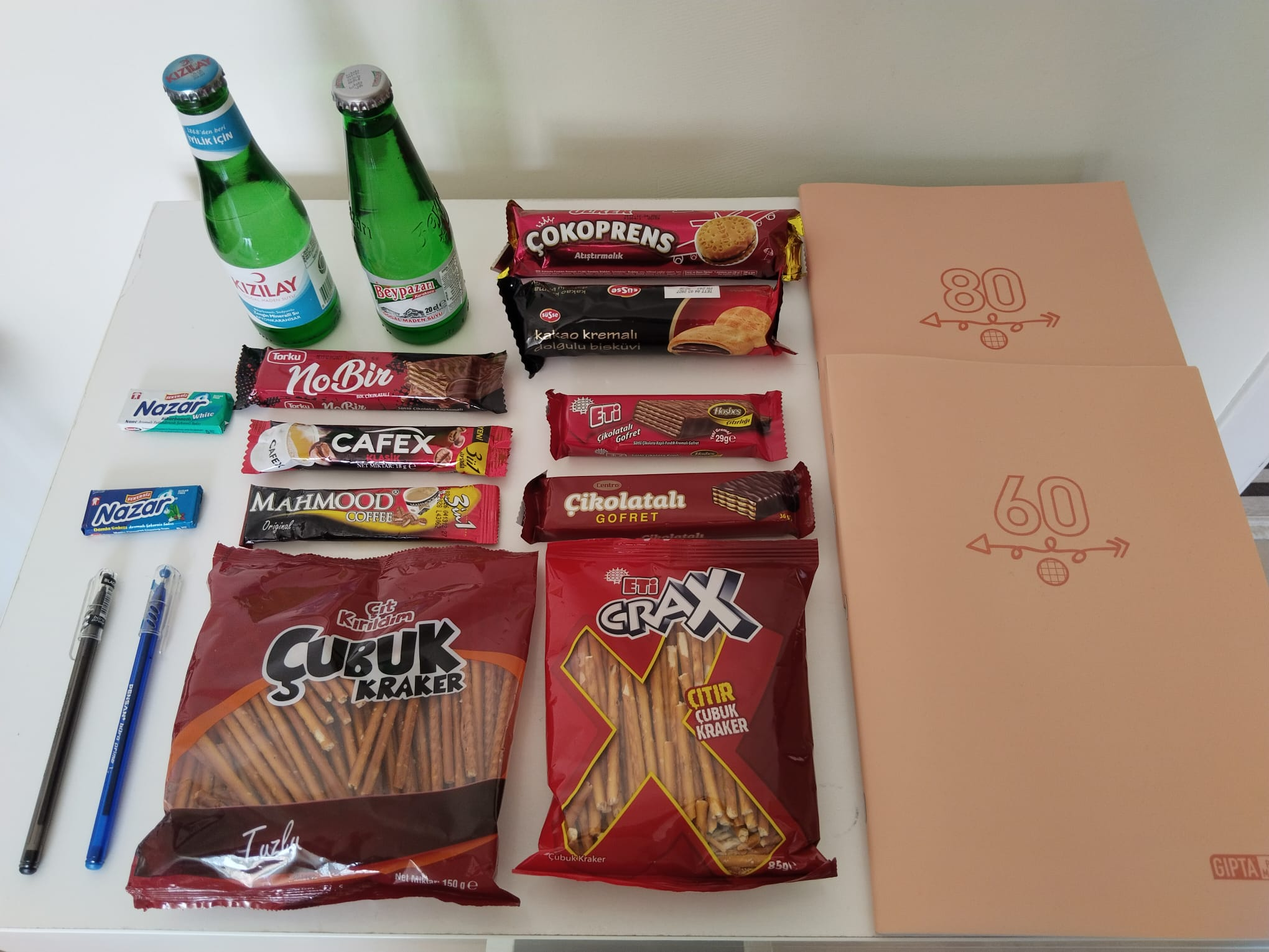60_sayfa_gipta_defter: (822, 355, 1267, 940)
80_sayfa_gipta_defter: (797, 182, 1188, 364)
beypazari_maden_suyu: (330, 63, 470, 350)
cafex_kahve: (239, 419, 515, 478)
centro_gofret: (518, 460, 818, 544)
citkirildim_cubuk_kraker: (126, 541, 542, 915)
eti_crax_cubuk_kraker: (518, 541, 828, 889)
eti_hosbes_gofret: (549, 388, 789, 464)
kizilay_maden_suyu: (162, 54, 345, 350)
mahmood_kahve: (237, 485, 501, 548)
nazar_damla_sakizli_sakiz: (85, 488, 204, 537)
nazar_naneli_sakiz: (122, 383, 231, 436)
pensan_mavi_tukenmez_kalem: (83, 565, 183, 875)
pensan_siyah_tukenmez_kalem: (17, 568, 116, 873)
susse_biskuvi: (497, 279, 793, 368)
torku_nobir_gofret: (238, 347, 506, 411)
ulker_cokoprens_biskuvi: (492, 200, 802, 280)
